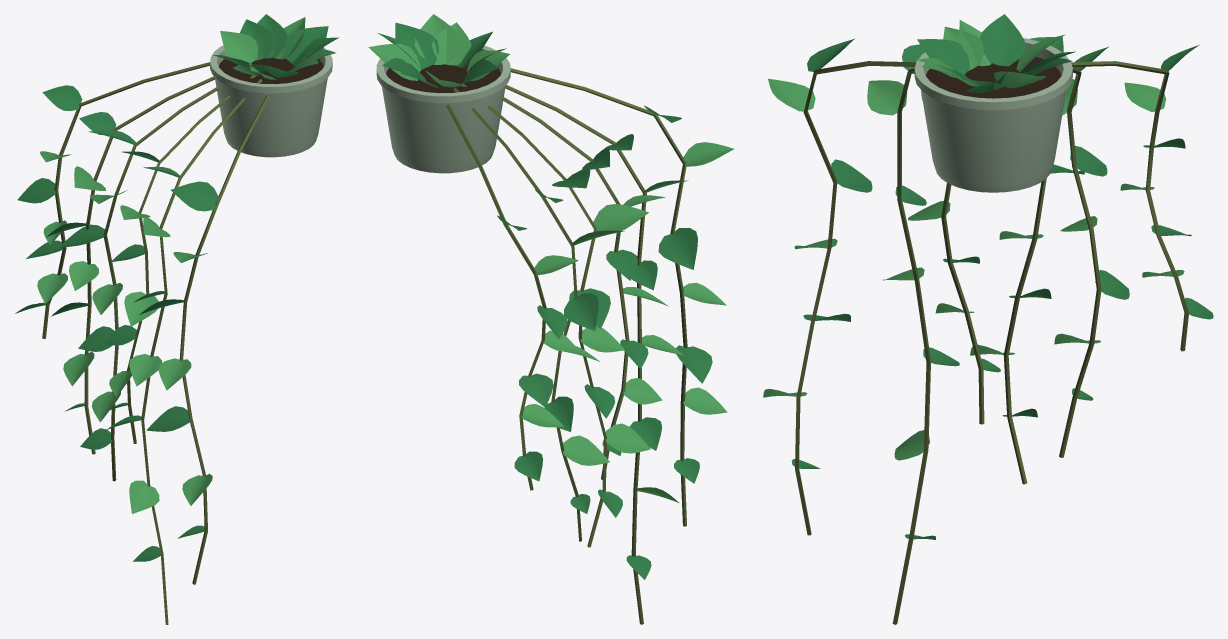
File: pothos.fbx
3 renders of one model, left to right at view 1: azimuth 30°, elevation 25°; view 2: azimuth 150°, elevation 25°; view 3: azimuth 270°, elevation 25°, orthographic. The views are drawn at different scales.
Visible parts, largest first — view 1: pothos; view 2: pothos; view 3: pothos.
Boxes of the visible parts, x1=… form: pothos: x1=15, y1=14, x2=338, y2=624; pothos: x1=368, y1=14, x2=734, y2=624; pothos: x1=763, y1=14, x2=1213, y2=624.
Size of the model in its own units: 0.3602 by 0.7428 by 0.4521.
